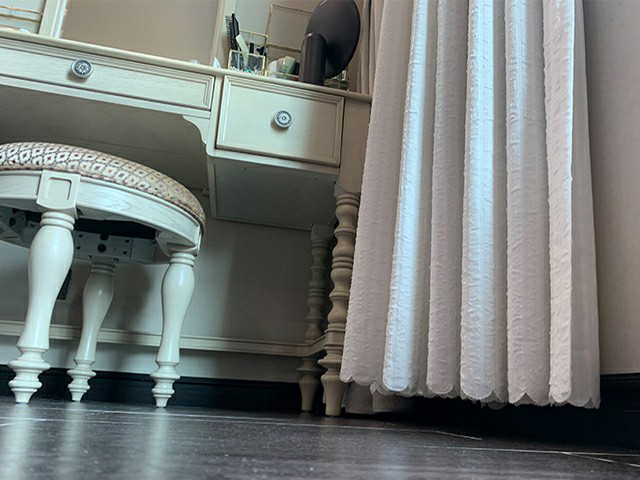curtain: (340, 1, 600, 415)
stool: (1, 142, 205, 408)
table: (1, 1, 374, 417)
